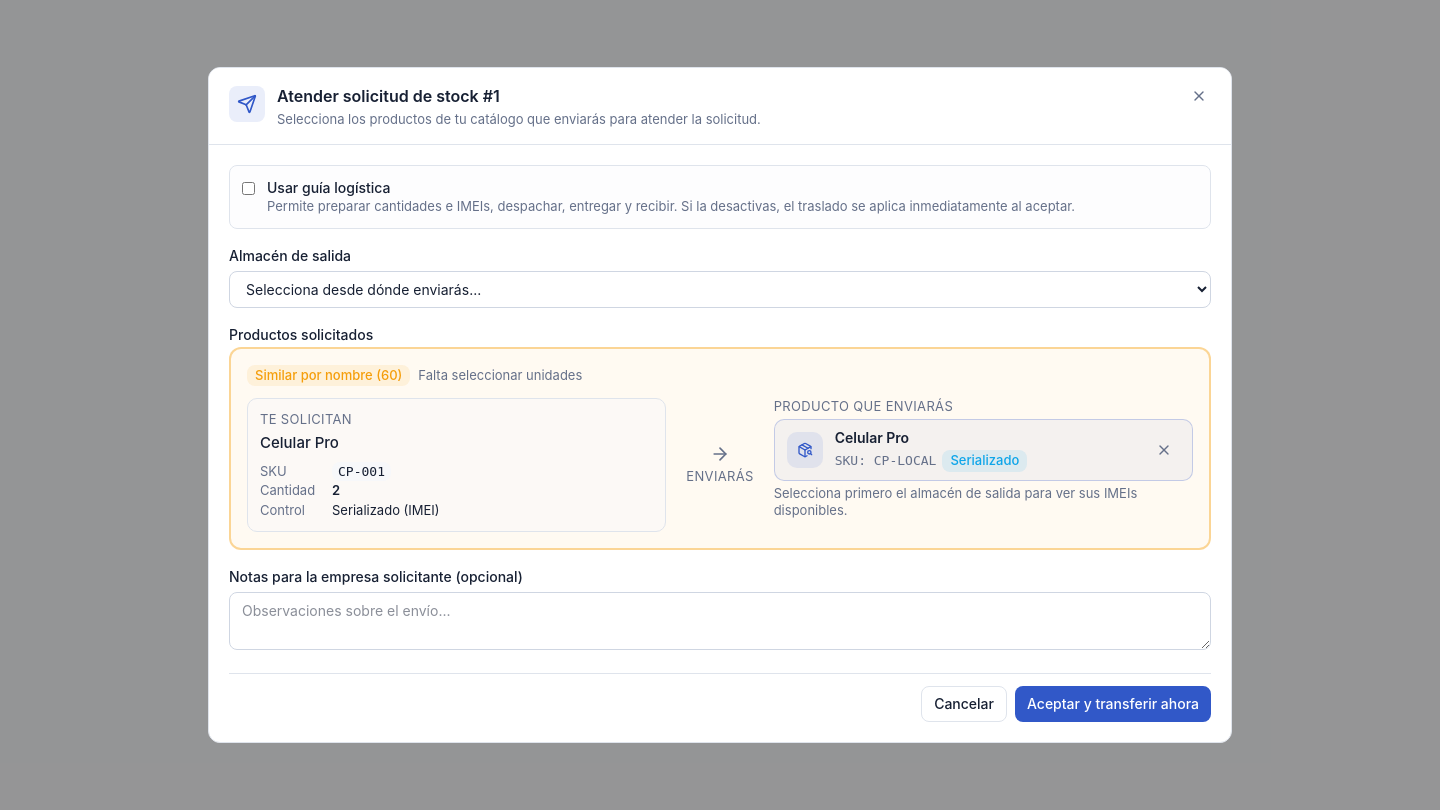
Test: AcceptInventoryTransferRequestDialog › click en IMEI actualiza el contador del scanner
Select "W1" in the dropdown labelled "Almacén de salida" at (720,290), box [229, 271, 1211, 308]
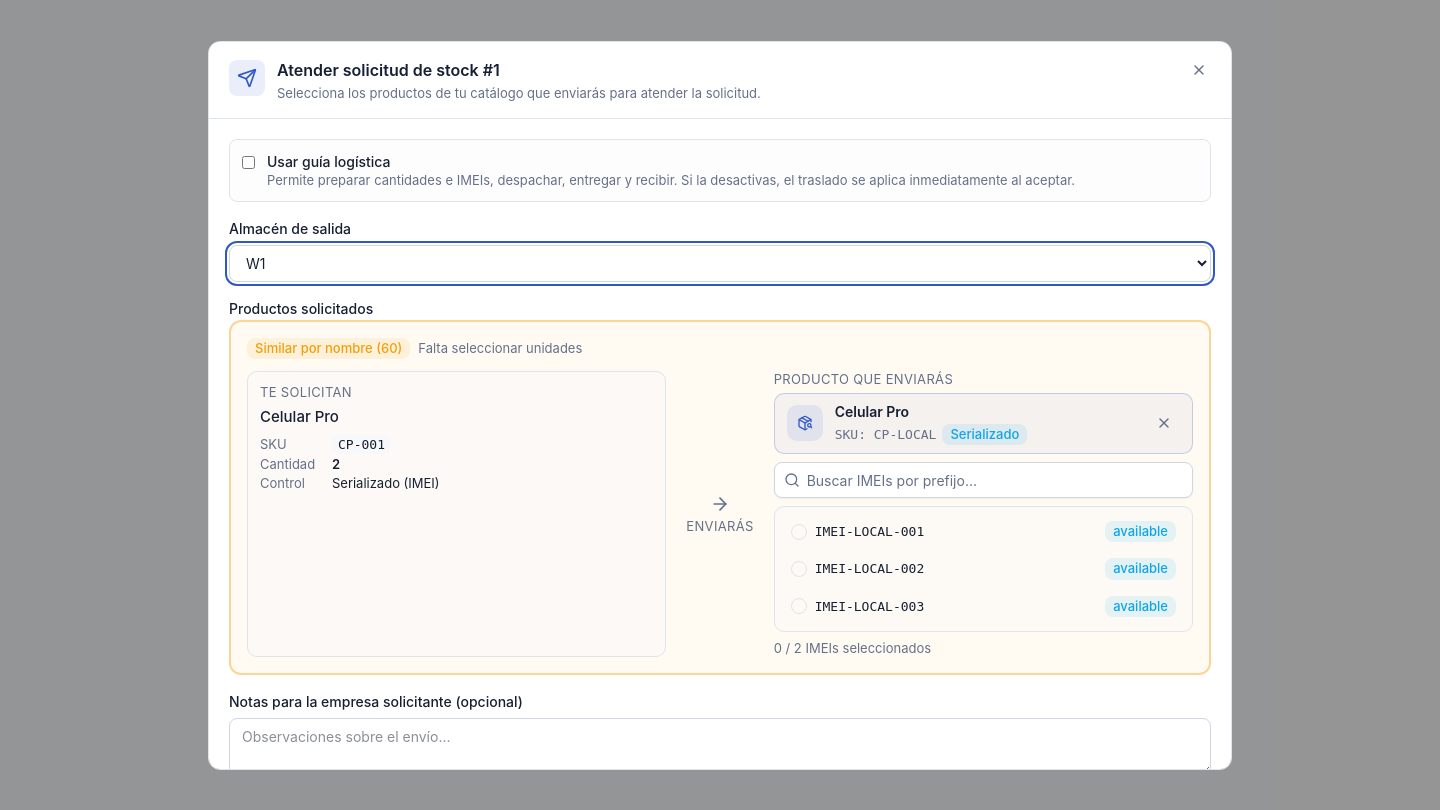
Expected: the button named "Quitar Celular Pro" is shown, [1148, 407, 1180, 439]
Expected: the element with test id "accept-imeis-300" is shown, [774, 462, 1193, 657]
Expected: the text "0 / 2 IMEIs seleccionados" is shown, [774, 640, 931, 656]
Click the button with test id "accept-imei-300-item-2001" at (869,532), box [783, 515, 1184, 548]
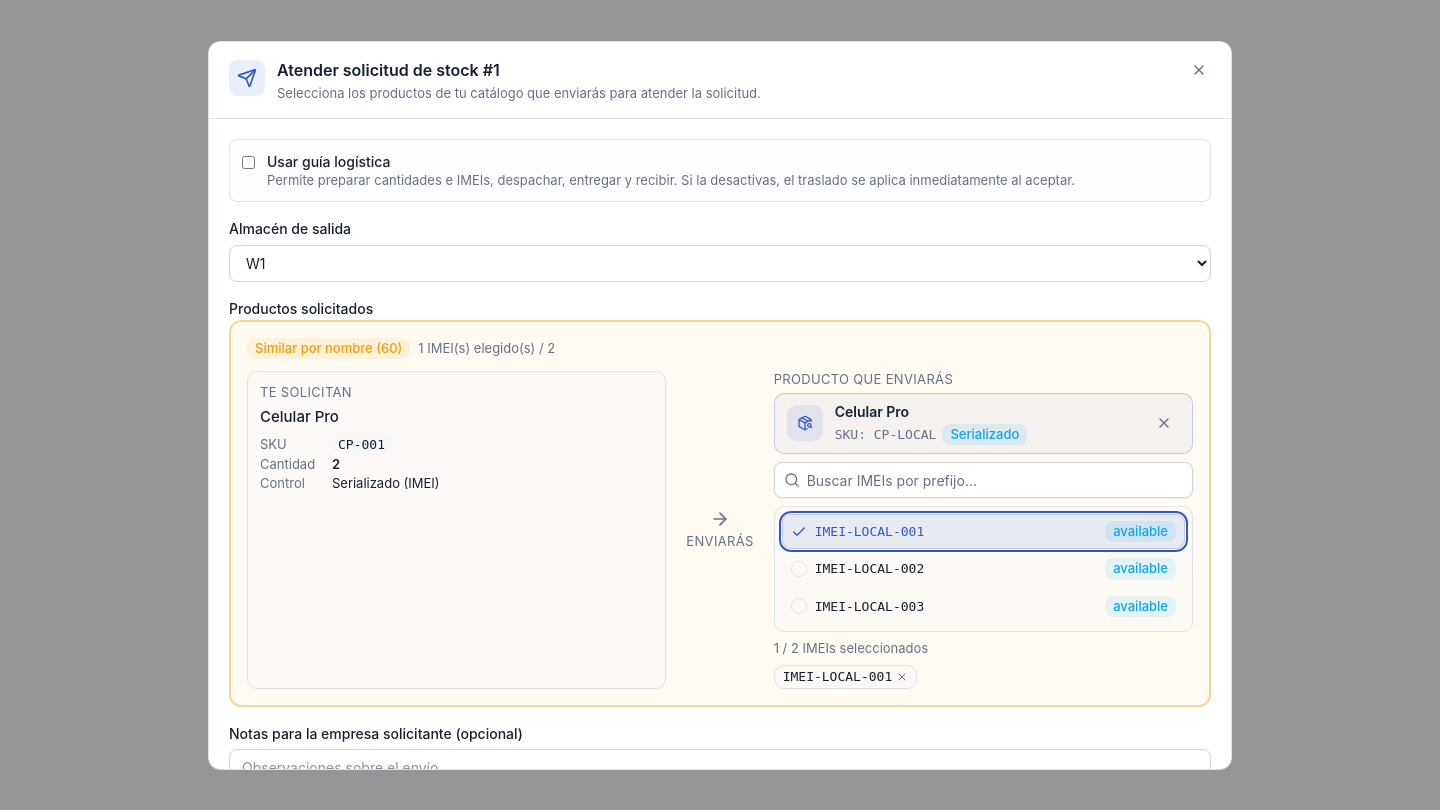
Expected: the text "1 / 2 IMEIs seleccionados" is shown, [774, 640, 928, 656]
